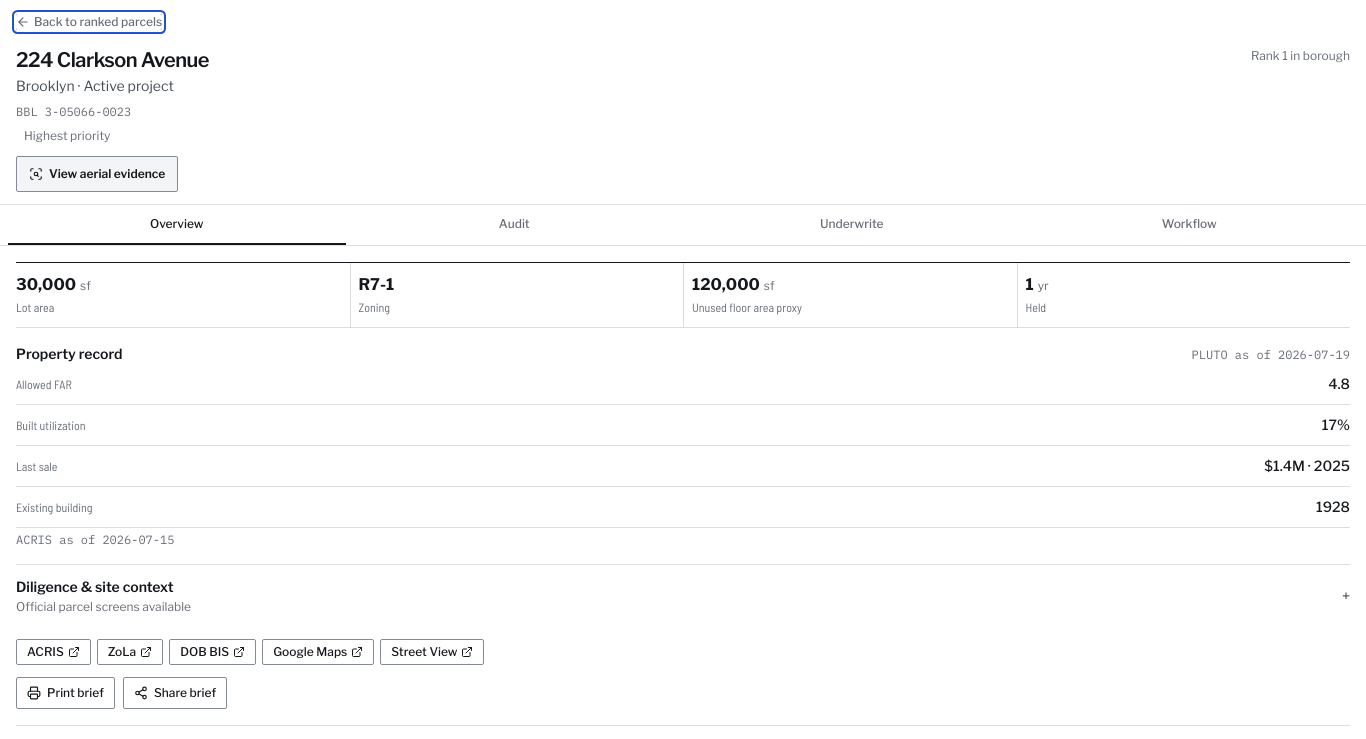
Test: ParcelIntelPropertyPanel › shows underwriting in place and gates workflow actions when signed out
Click the button "Underwrite" at (852, 225), box 683,205 -> 1020,245
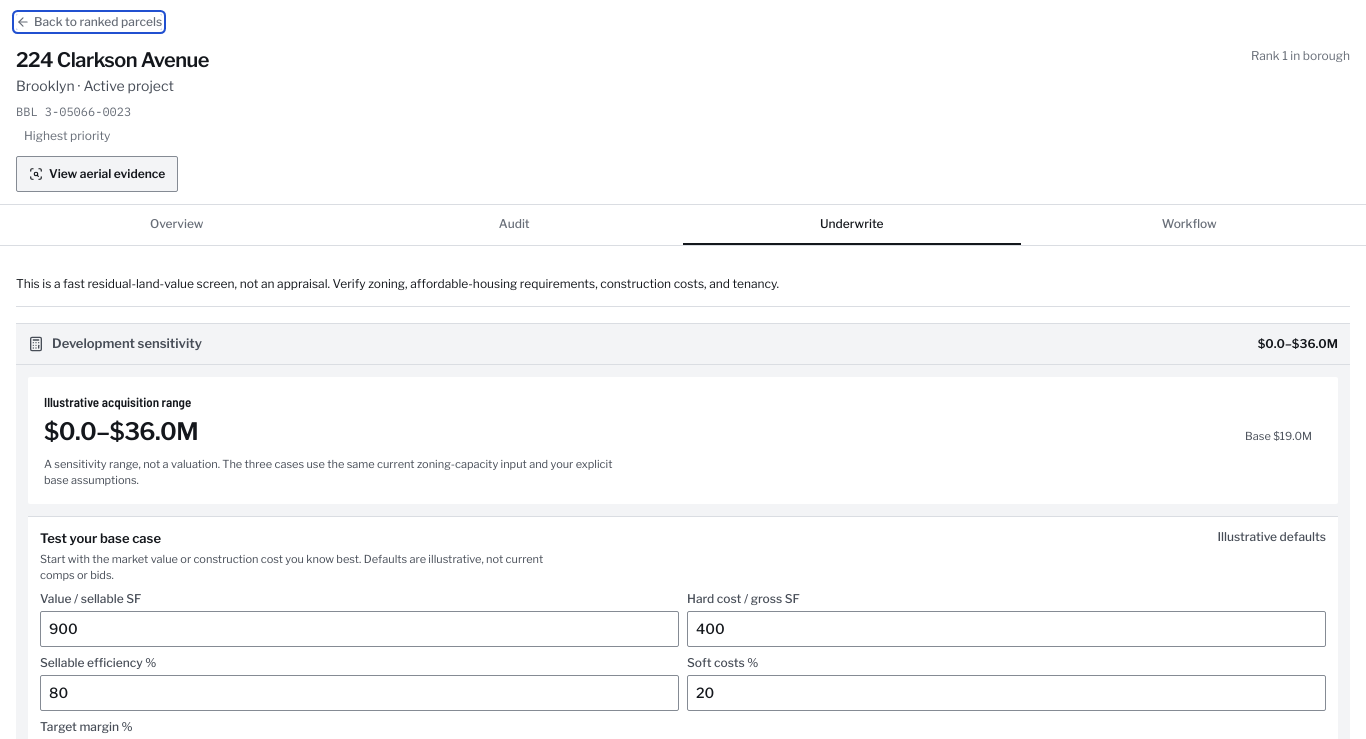
Replace the text in the number field labelled "Value / sellable SF" with "1000" at (360, 628), box 40,610 -> 679,646
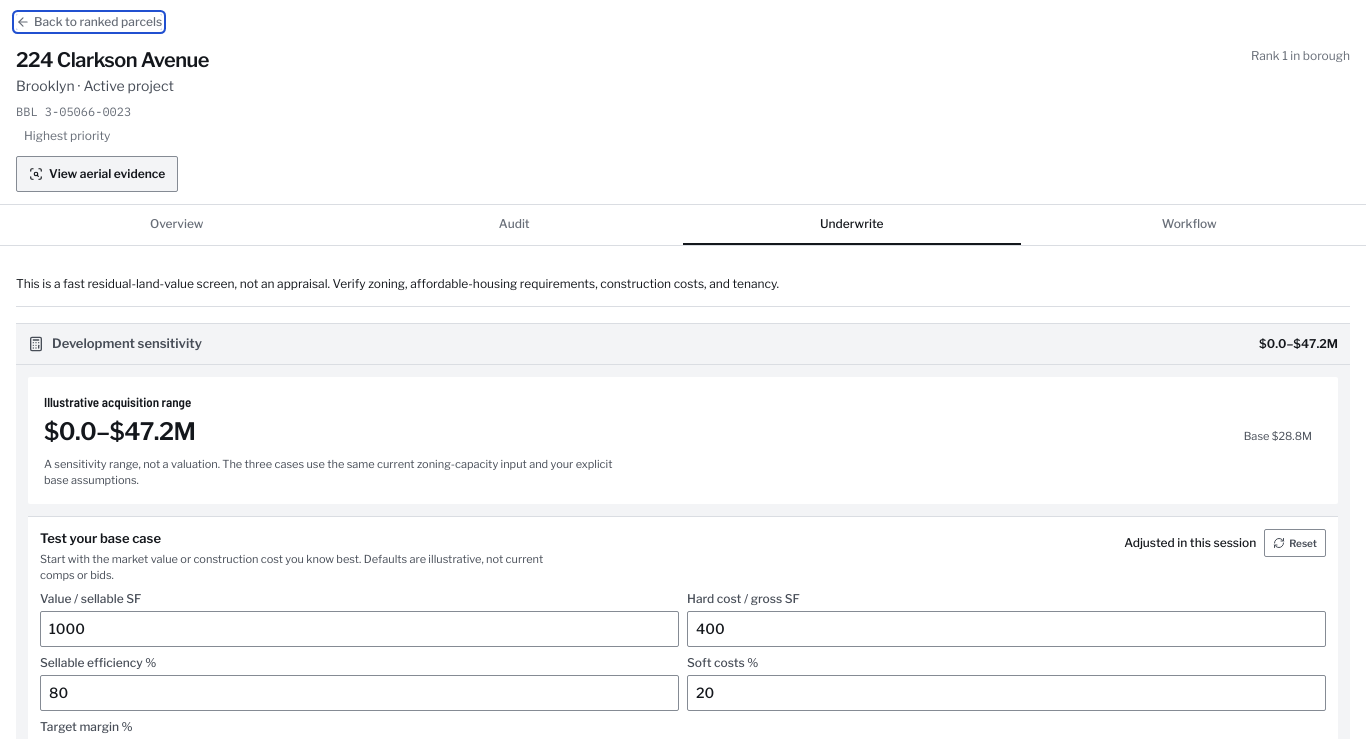
Click the button "Workflow" at (1189, 225), box 1020,205 -> 1358,245
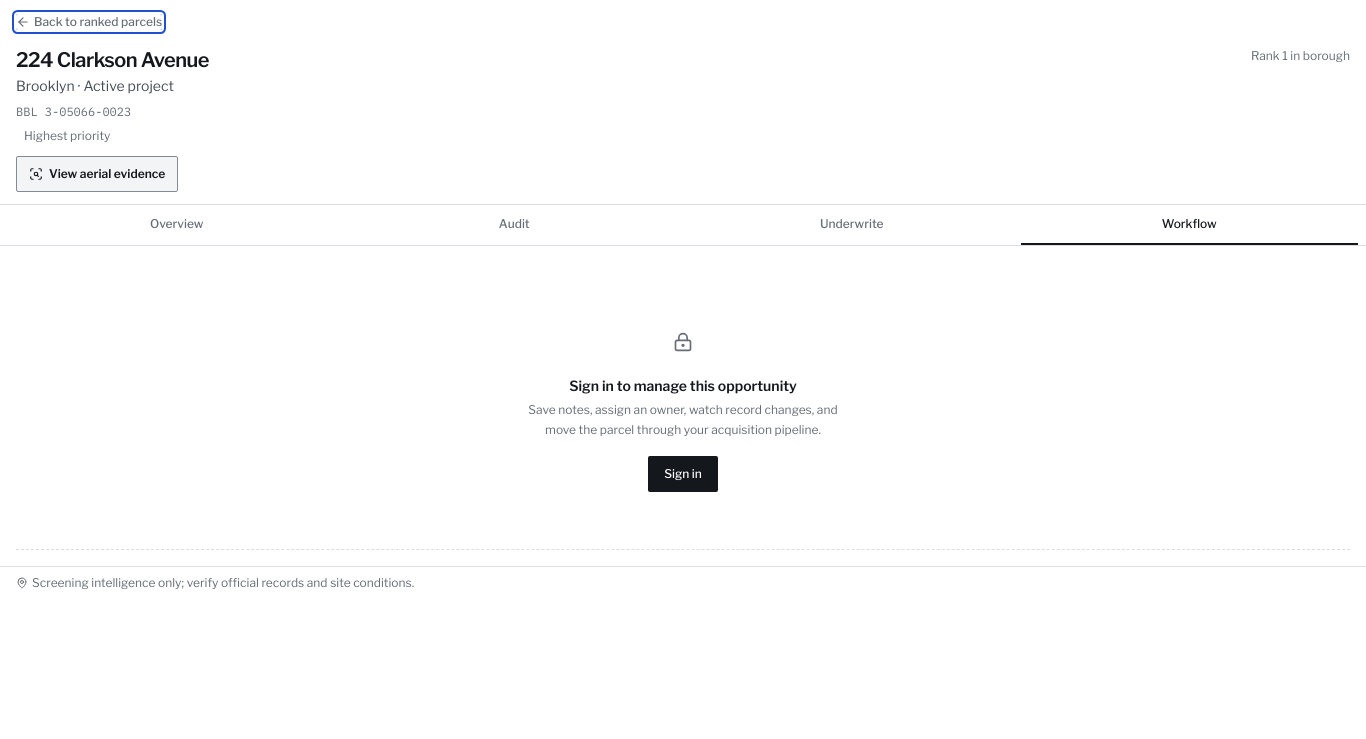
Now the heading "Sign in to manage this opportunity" is shown, box 569,376 -> 797,396
